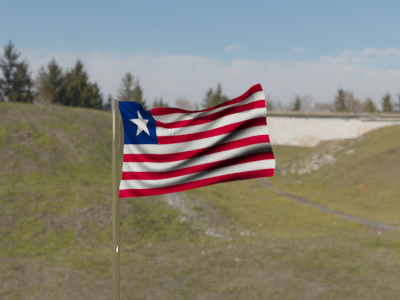Liberia flag: (119, 83, 274, 198)
